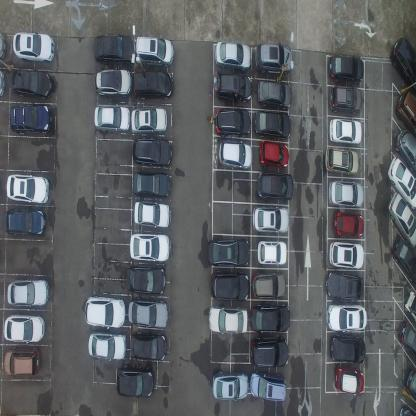car: (386, 190, 416, 250), (386, 156, 416, 210), (389, 35, 416, 91), (6, 172, 50, 204), (84, 295, 126, 328), (9, 68, 52, 100), (10, 102, 52, 134), (135, 34, 174, 68), (210, 269, 250, 302), (4, 312, 45, 344), (256, 42, 293, 77), (207, 237, 250, 267), (13, 32, 56, 62), (253, 107, 292, 140), (126, 264, 166, 296), (87, 330, 127, 362), (129, 232, 170, 263), (94, 34, 136, 64), (3, 346, 42, 378), (3, 208, 46, 237), (133, 70, 173, 101), (115, 366, 155, 397), (250, 336, 288, 368), (133, 135, 173, 165), (128, 298, 168, 328), (391, 236, 416, 284), (207, 305, 248, 334), (250, 370, 286, 403), (256, 170, 293, 202), (212, 370, 249, 402), (325, 273, 365, 302), (327, 305, 367, 334), (257, 78, 293, 110), (214, 107, 251, 138), (93, 104, 131, 134), (214, 40, 252, 70), (7, 279, 49, 306), (95, 67, 134, 96), (250, 304, 290, 332), (253, 204, 289, 235), (215, 72, 252, 102), (324, 145, 359, 176), (329, 54, 364, 85), (328, 179, 364, 209), (133, 200, 170, 229), (130, 332, 167, 361), (133, 168, 171, 196), (218, 140, 253, 170), (395, 87, 416, 137), (328, 241, 364, 270), (131, 106, 168, 134), (329, 85, 363, 115), (329, 336, 365, 364), (333, 364, 364, 396), (394, 128, 416, 172), (258, 140, 289, 169), (333, 211, 364, 240), (253, 272, 286, 299), (330, 118, 362, 145), (257, 238, 287, 266), (398, 318, 416, 360), (403, 366, 415, 404), (404, 289, 416, 323), (0, 30, 6, 64), (398, 404, 416, 415), (0, 67, 5, 98)
